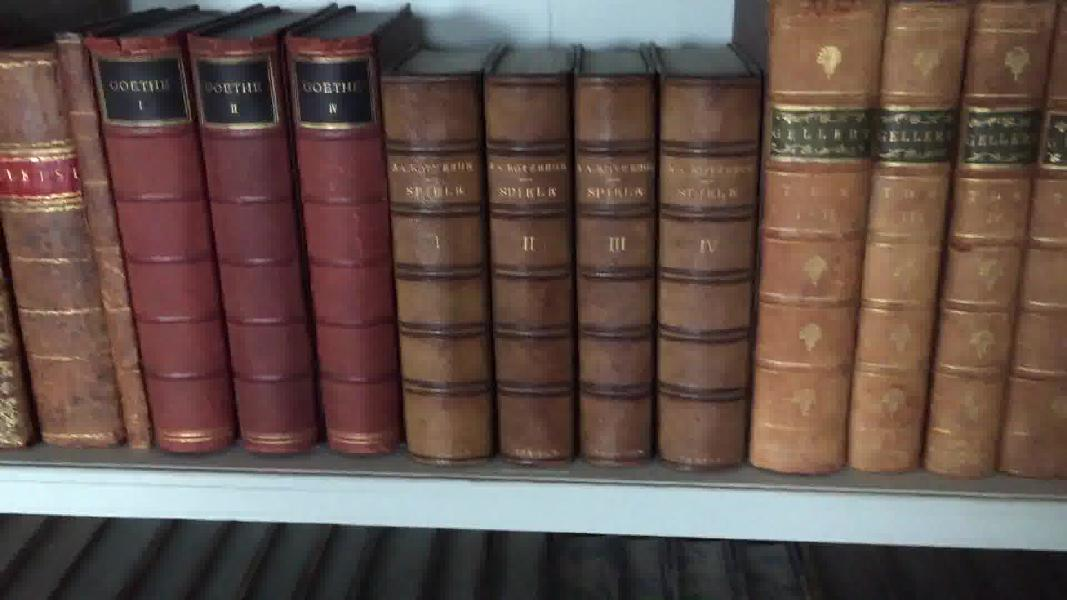Aa6-10: (44, 12, 162, 458)
Aa6-11_13: (81, 24, 423, 450)
Aa6-14_17: (371, 63, 771, 477)
